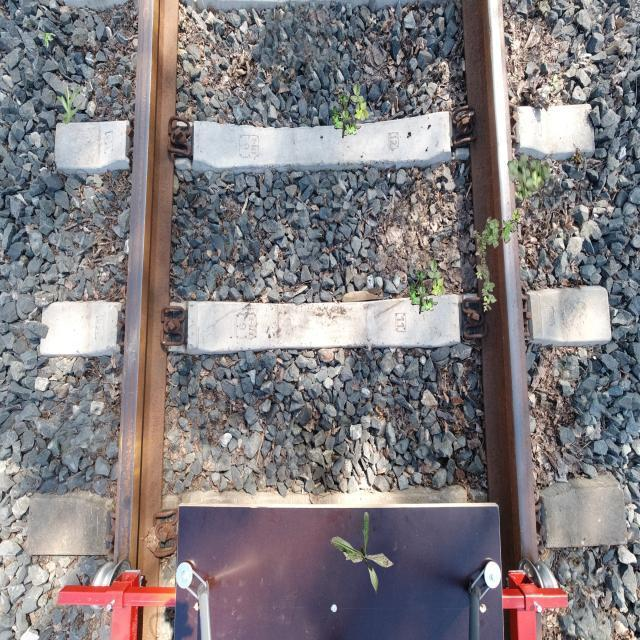Plant: (330, 512, 394, 596), (473, 208, 522, 312), (507, 153, 550, 203), (332, 83, 370, 138), (409, 259, 446, 314), (56, 83, 82, 125), (42, 32, 56, 48)
